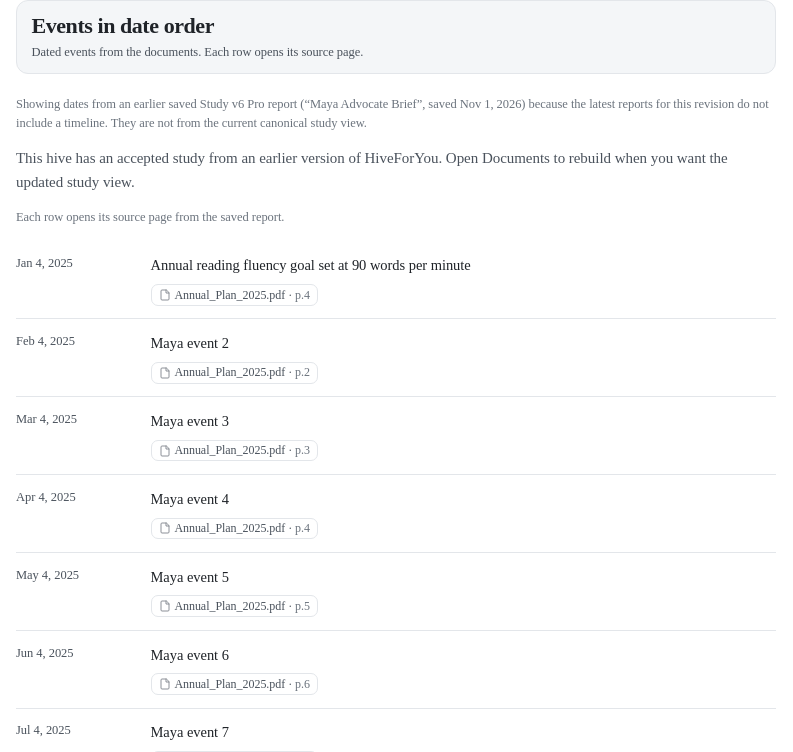
Scenario: HiveTimelinePanel › opens the evidence viewer to the exact original PDF page for Maya v6 historical Pro timeline events
Expected: the text with test id "timeline-legacy-notice" shows "earlier saved Study v6 Pro report", [16,97,769,130]
Expected: the text with test id "timeline-legacy-notice" shows "Maya Advocate Brief", [16,97,769,130]
Step 1. Click the button with test id "source-ref" → (234,295), box [150,284,318,306]
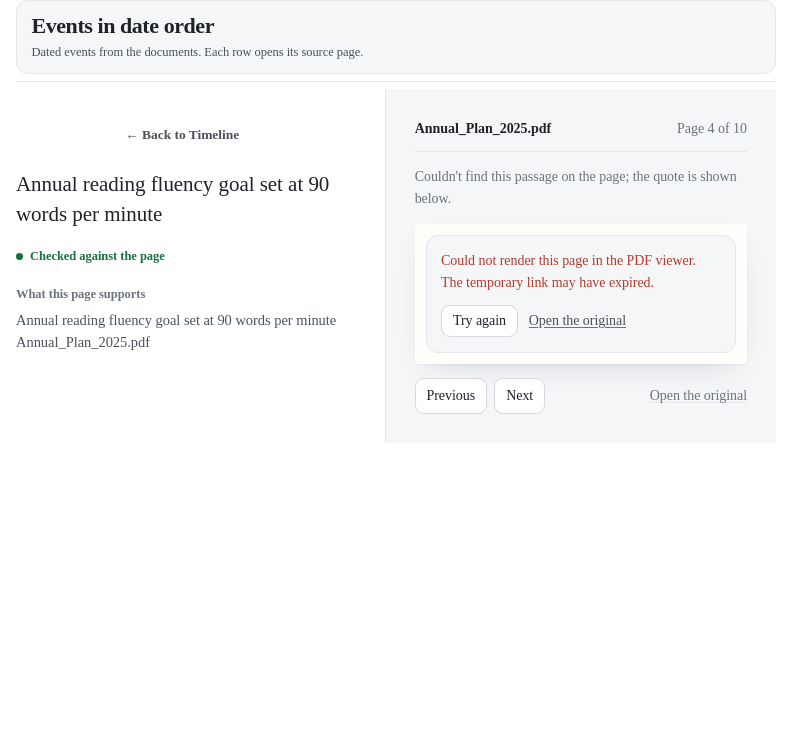
Expected: the element with test id "evidence-viewer" is shown, [16,81,776,444]
